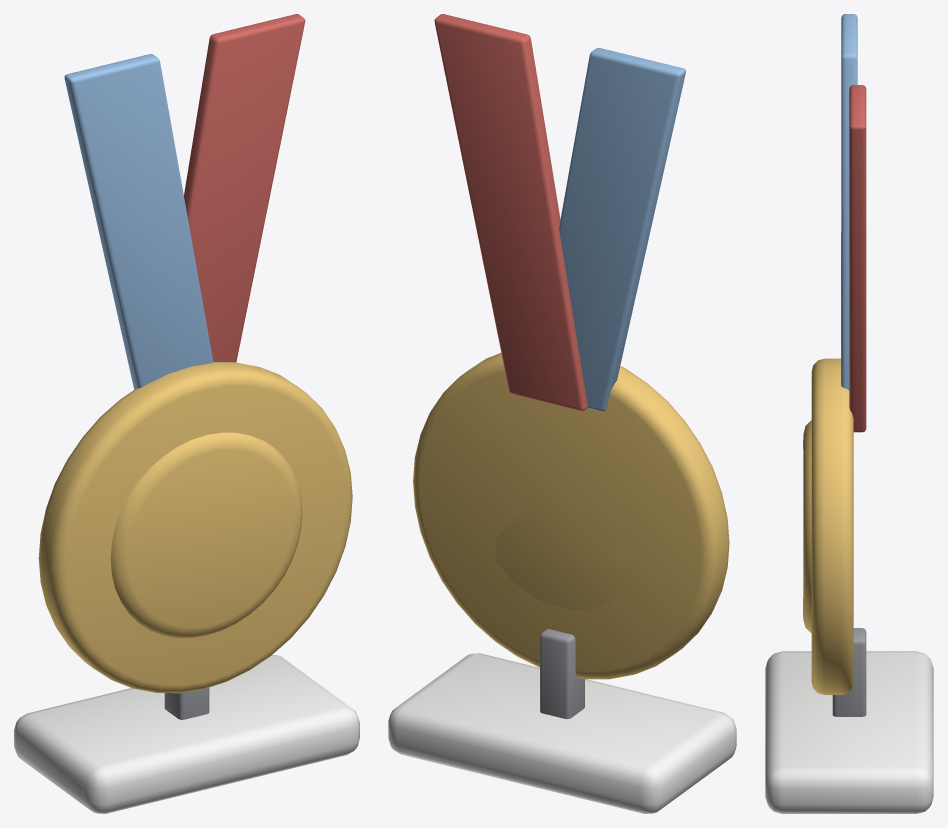
File: links--lapras.glb
3 renders of one model, left to right at view 1: azimuth 30°, elevation 25°; view 2: azimuth 150°, elevation 25°; view 3: azimuth 270°, elevation 25°, orthographic. The views are drawn at different scales.
Parts seen in each view (by area): view 1: links--lapras; view 2: links--lapras; view 3: links--lapras.
Boxes of the visible parts, x1,y1,x2,y2 form: links--lapras: (14,14,359,813); links--lapras: (388,14,736,813); links--lapras: (765,14,933,813).
Bounding box in the file's own units: 0.3999 × 0.8999 × 0.2.
